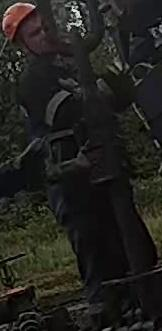gloves: (106, 34, 153, 84)
helmet: (2, 2, 41, 43)
vest: (15, 61, 129, 193)
